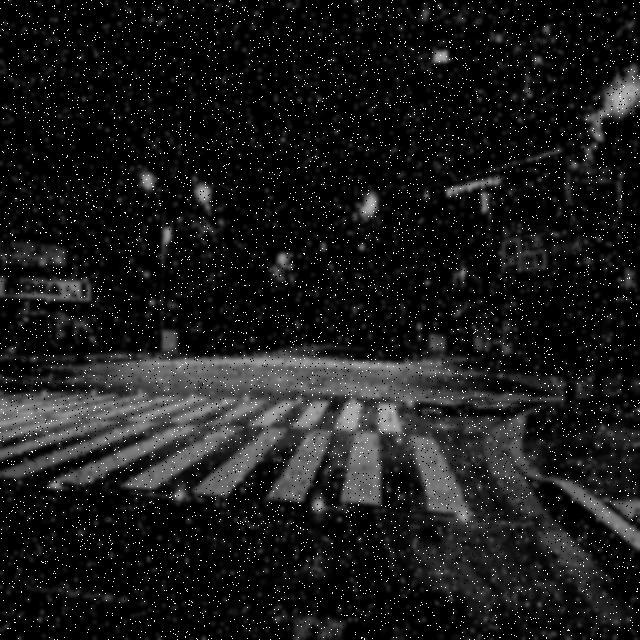crosswalk: (0, 386, 588, 526), (145, 354, 428, 377), (513, 362, 639, 411)
